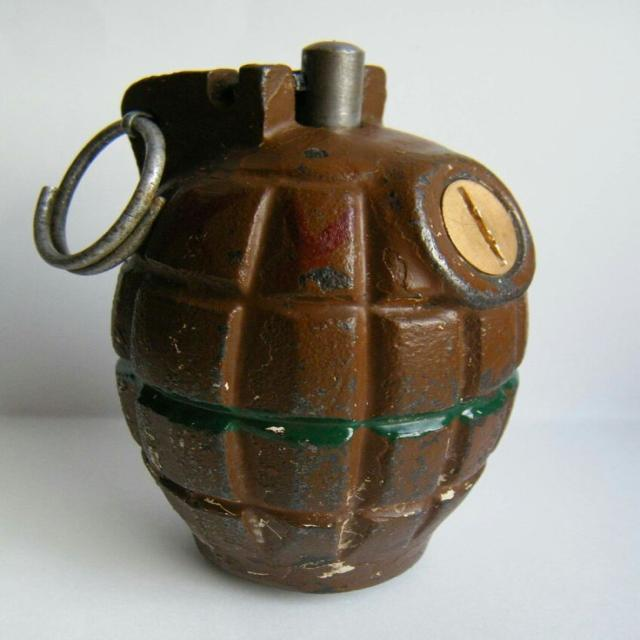bomb: (45, 47, 534, 574)
